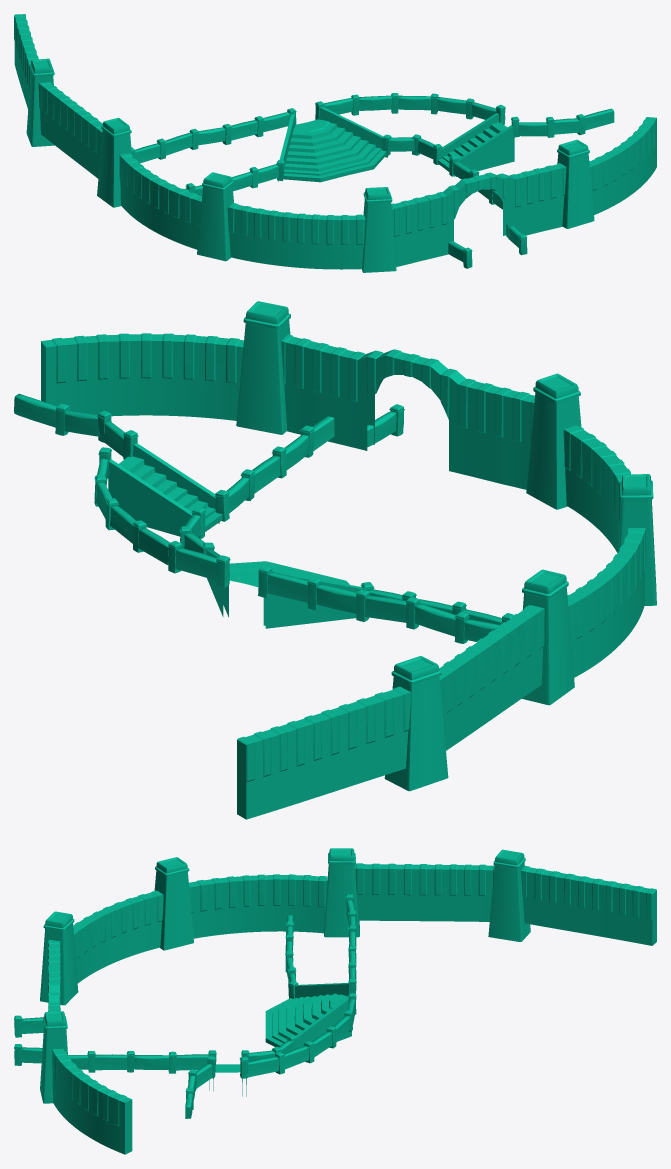
The model's file is Town_Wall.FBX.
3 renders of one model, top to bottom at view 1: azimuth 30°, elevation 25°; view 2: azimuth 150°, elevation 25°; view 3: azimuth 270°, elevation 25°, orthographic. The views are drawn at different scales.
Parts seen in each view (by area): view 1: Object066; view 2: Object066; view 3: Object066.
Boxes of the visible parts, x1,y1,x2,y2 form: Object066: (14, 14, 656, 272); Object066: (14, 301, 656, 819); Object066: (14, 848, 656, 1154).
Size of the model in its own units: 2771 by 465 by 3273.
